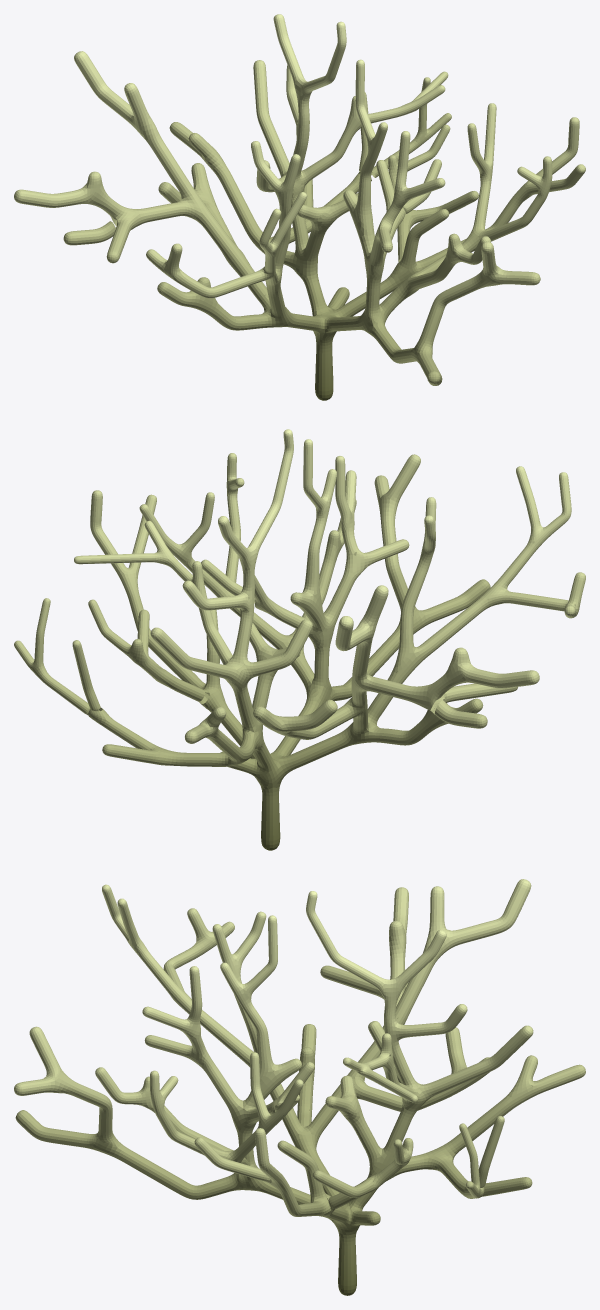
Rendered from Object_Coral_02.fbx.
3 renders of one model, top to bottom at view 1: azimuth 30°, elevation 25°; view 2: azimuth 150°, elevation 25°; view 3: azimuth 270°, elevation 25°, orthographic. The views are drawn at different scales.
Parts seen in each view (by area): view 1: CoralBranched; view 2: CoralBranched; view 3: CoralBranched.
Boxes of the visible parts, x1,y1,x2,y2 form: CoralBranched: [14, 14, 585, 400]; CoralBranched: [14, 429, 585, 850]; CoralBranched: [14, 879, 585, 1295].
Size of the model in its own units: 680 by 511 by 657.
